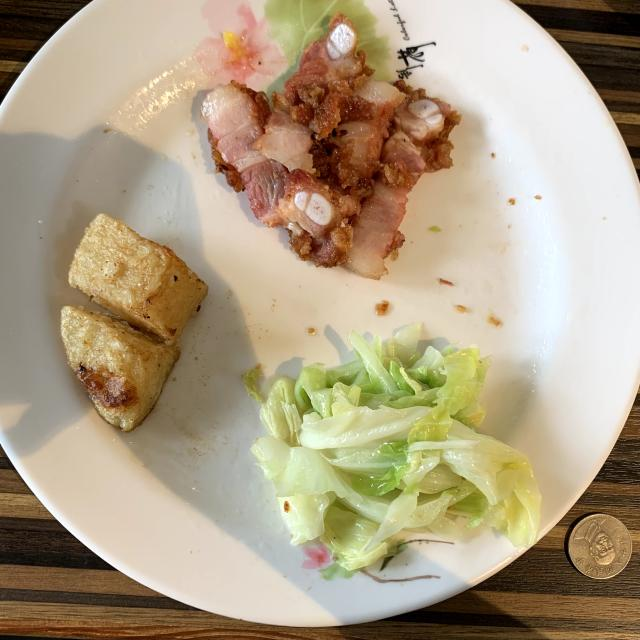cabbage: (244, 324, 540, 576)
coin: (568, 514, 632, 579)
fried potato: (61, 214, 208, 431)
red grilled pork: (201, 14, 460, 279)
